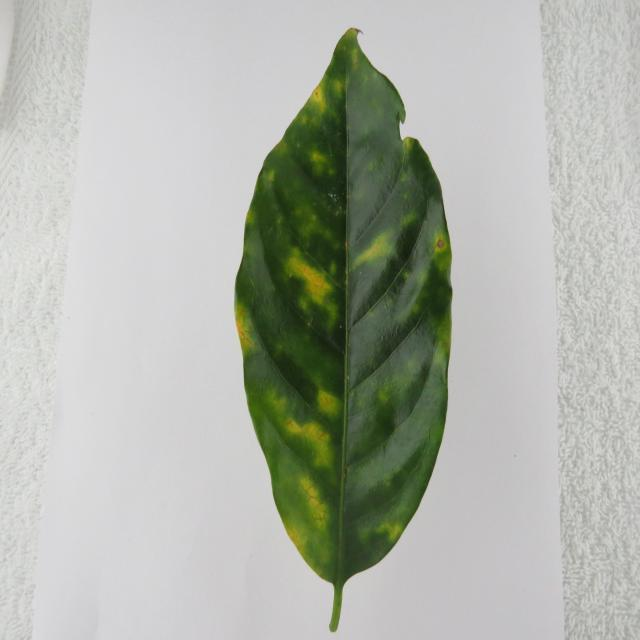DeficienciaNutricional-Fosforo: (235, 28, 451, 632)
